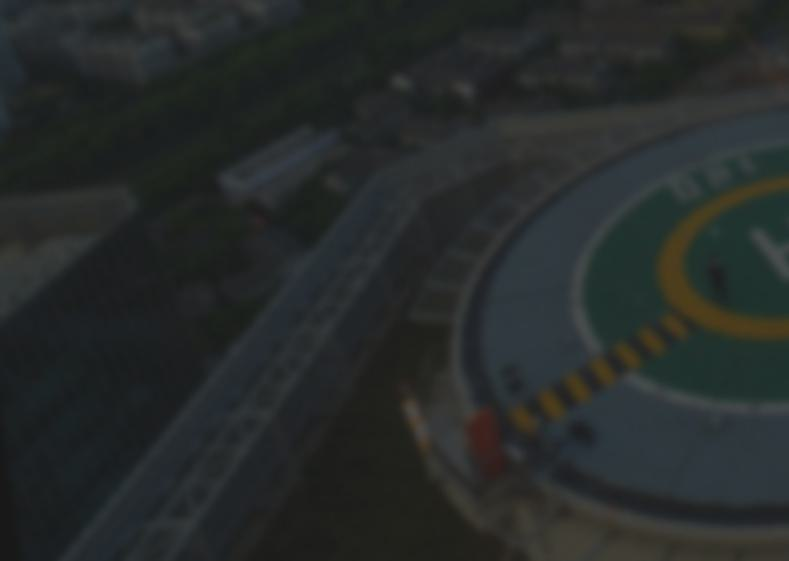Apron: (672, 183, 779, 327)
